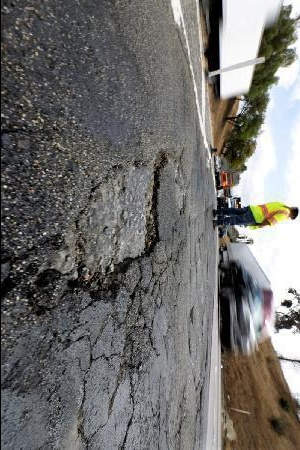pothole: (69, 147, 170, 305), (1, 232, 65, 315), (171, 154, 188, 213)
